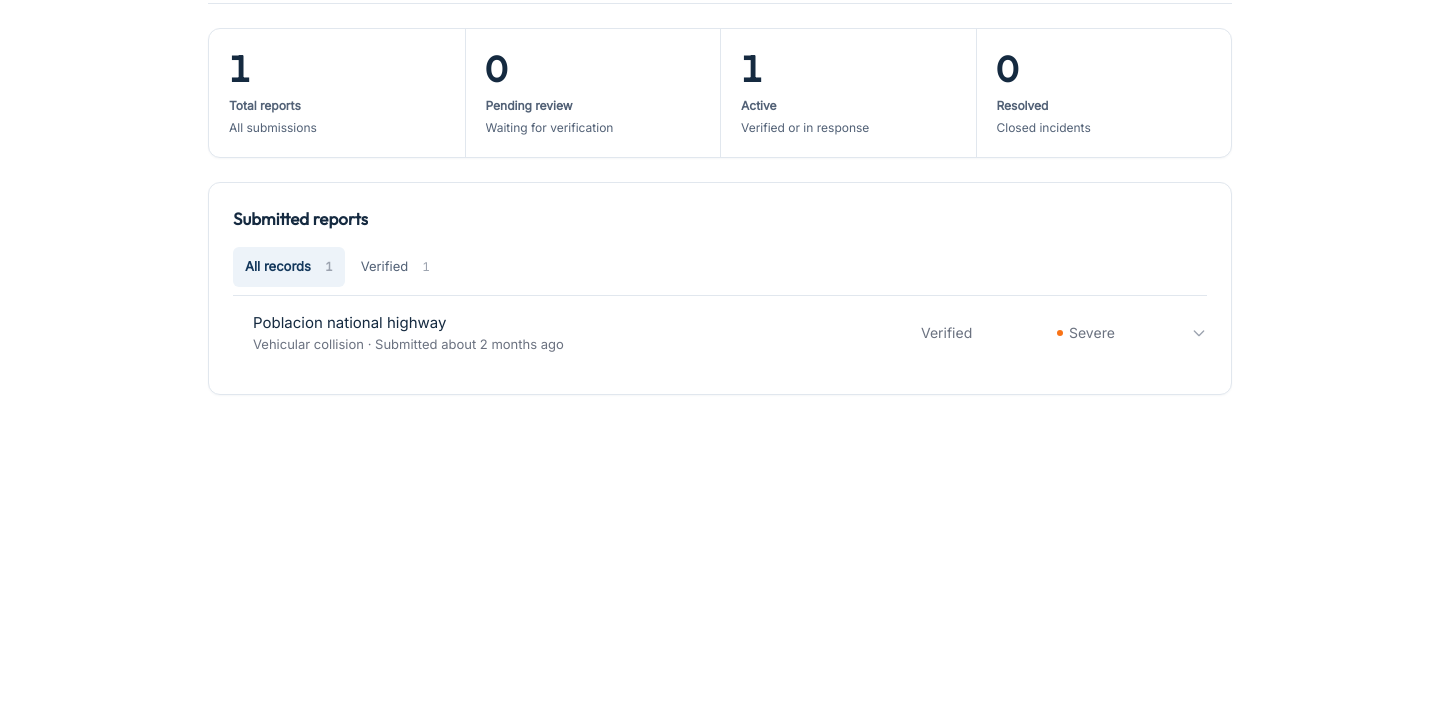
Test: MyReports Evidence Inspection and Modal Experience › 4. Stacked evidence deck renders multi-photo counter badge (+N) and fanned card layers
Click the heading "Poblacion national highway" at [350, 322], box x1=253 y1=313 x2=446 y2=332
(page scrolled)
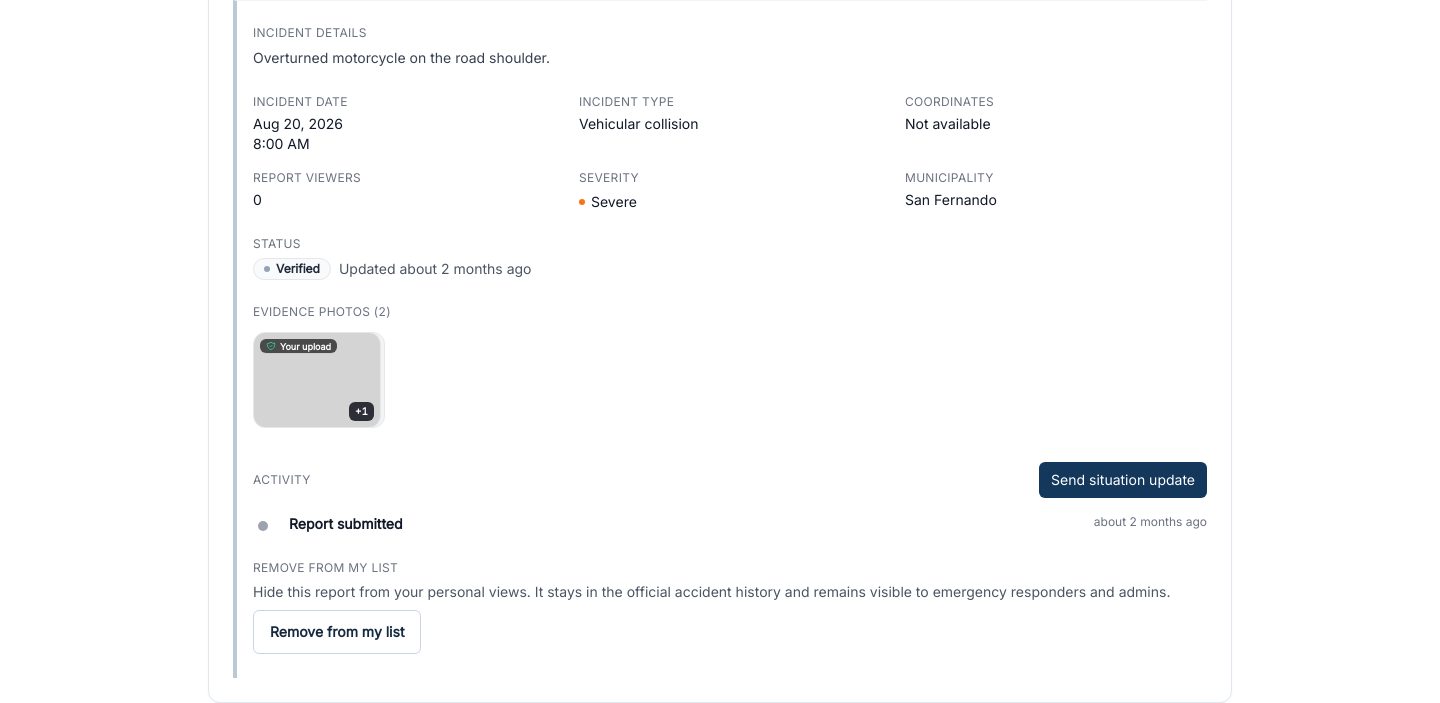
Now the text "+1" is shown, box x1=355 y1=405 x2=368 y2=417
Now the text "Your upload" is shown, box x1=280 y1=342 x2=331 y2=350
